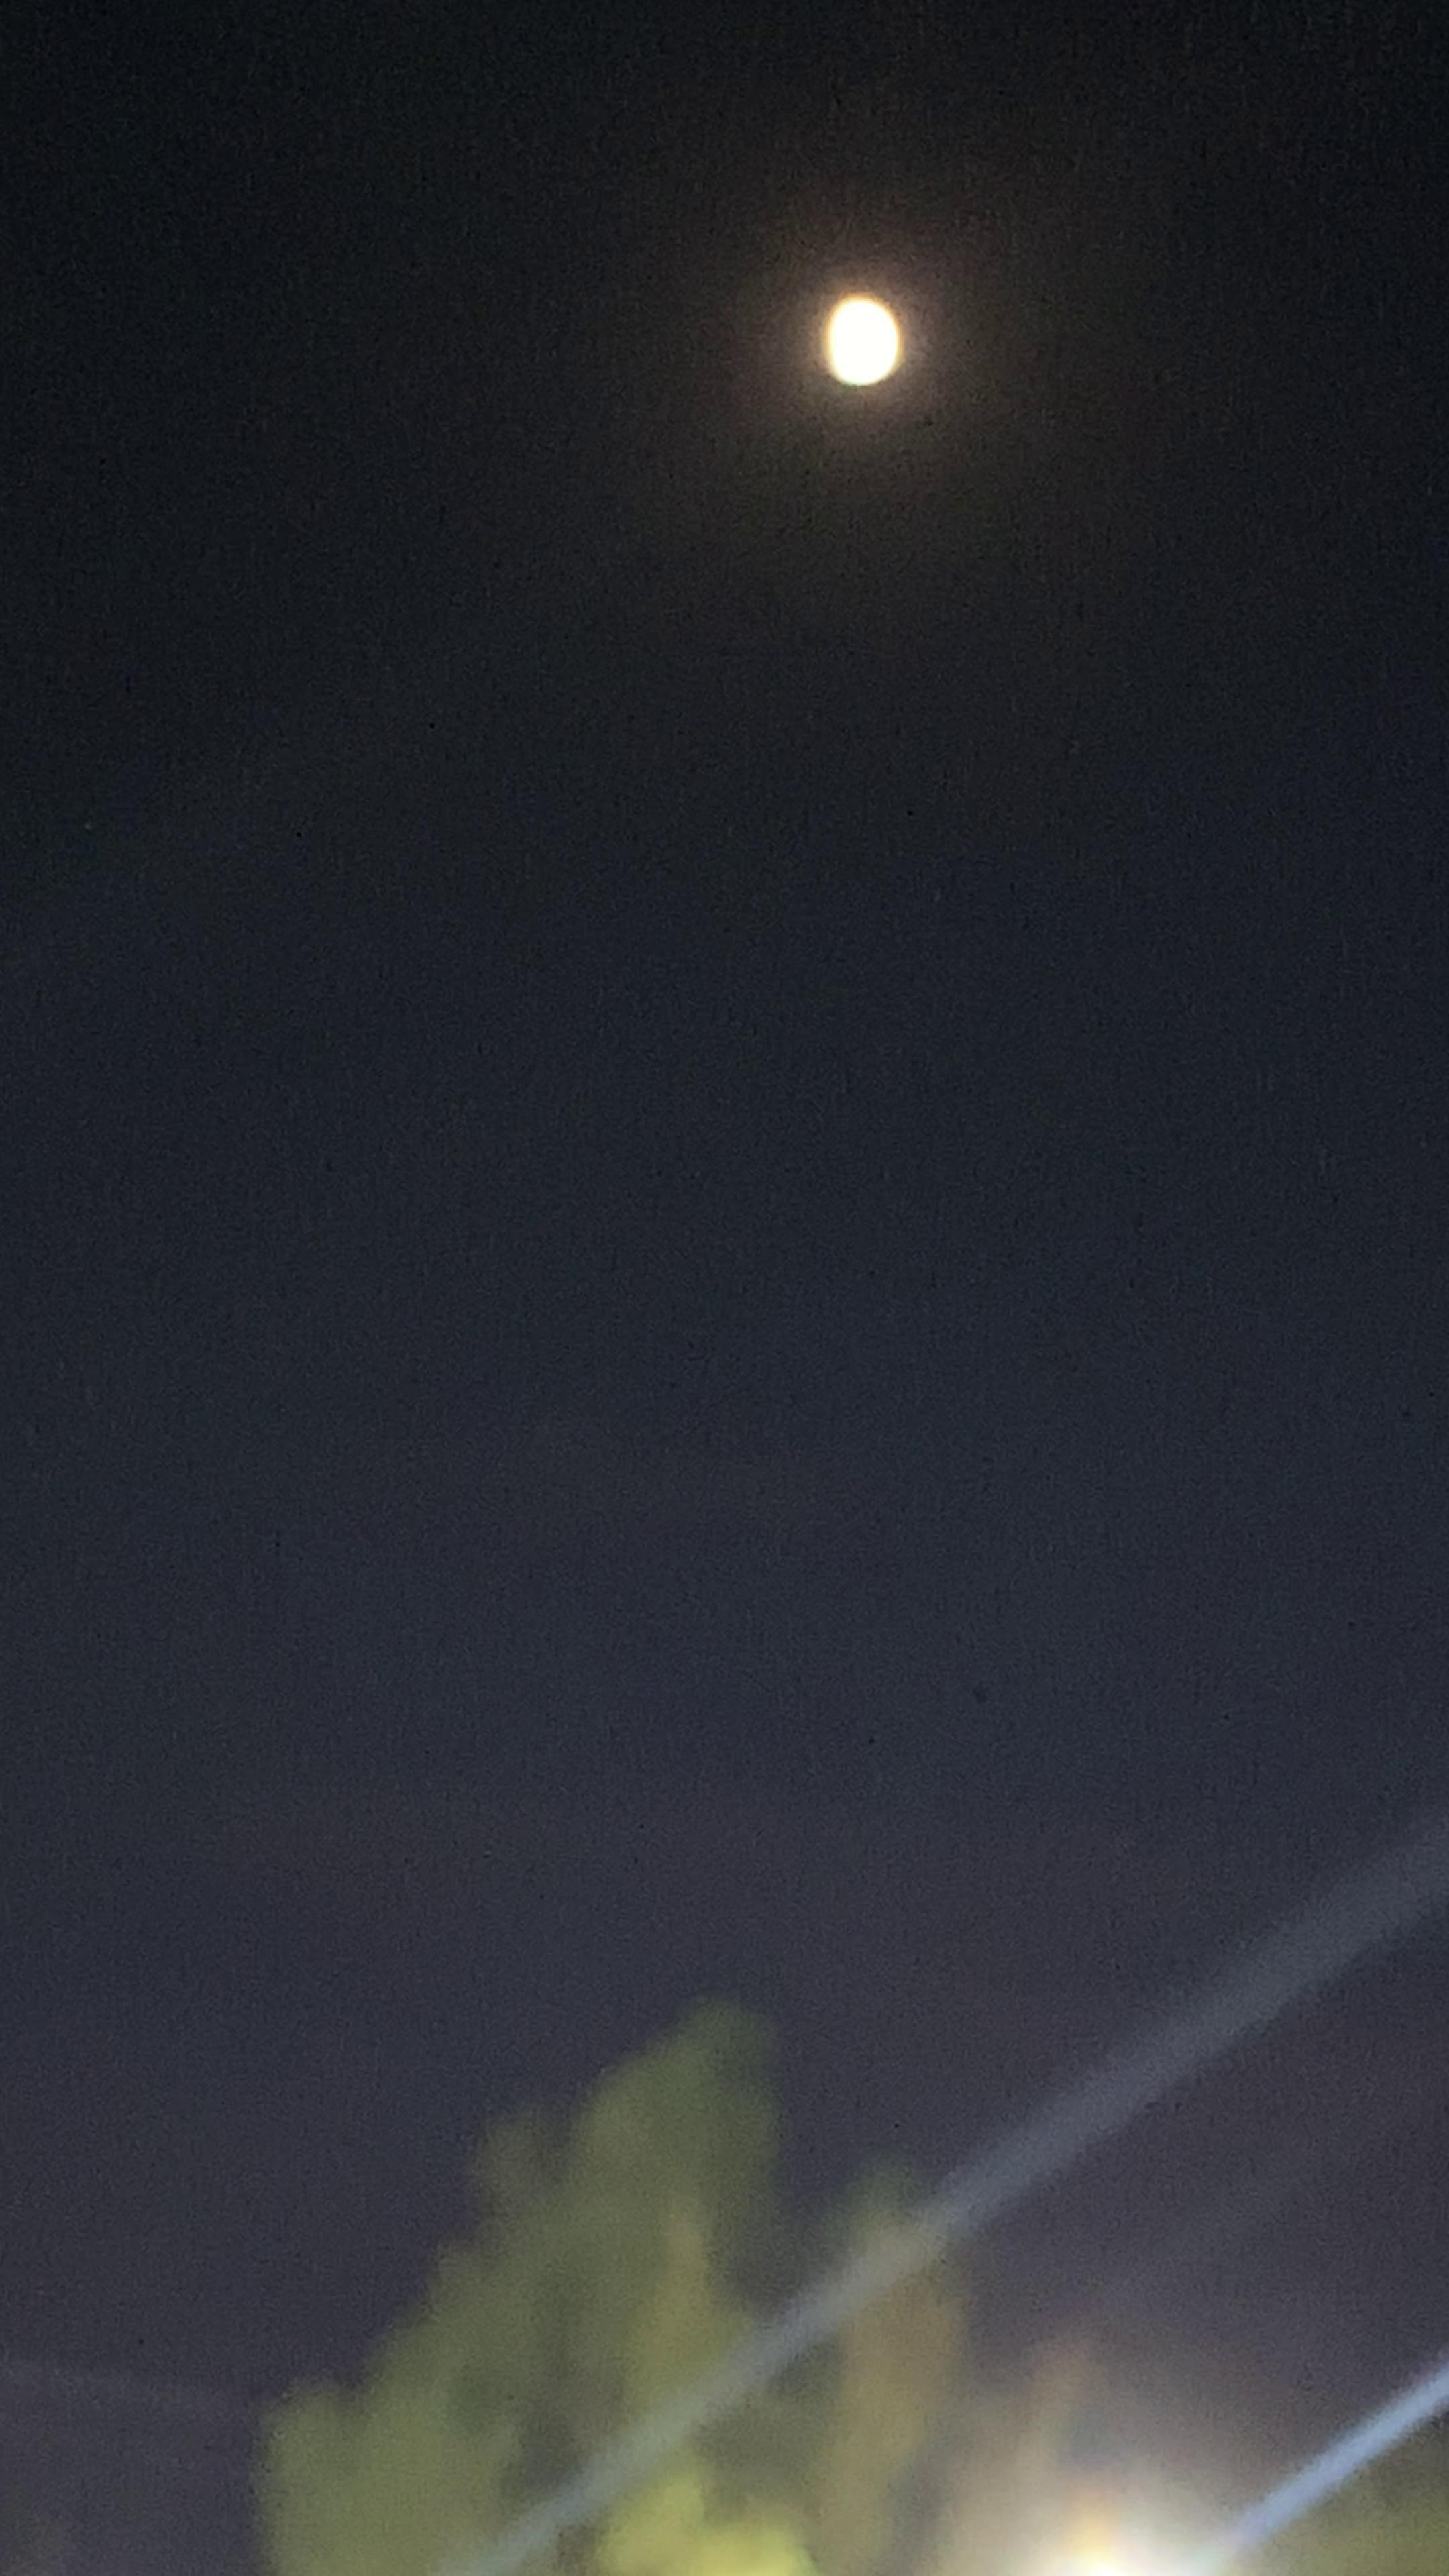moon: (796, 267, 950, 419)
